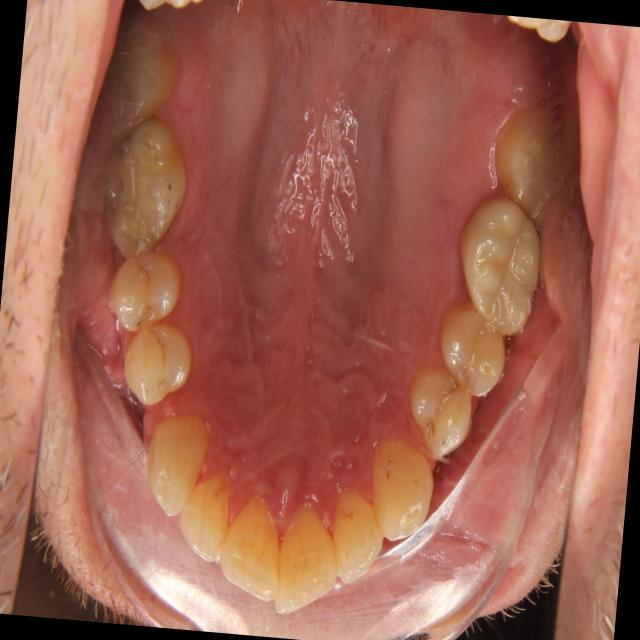tooth: (78, 0, 195, 159), (444, 178, 550, 347), (93, 111, 195, 272), (484, 91, 578, 237), (217, 467, 288, 620), (266, 492, 347, 626), (426, 288, 514, 405), (397, 349, 482, 470), (358, 425, 441, 548), (134, 407, 218, 524), (94, 237, 191, 336), (166, 452, 238, 575), (115, 316, 200, 414), (325, 479, 390, 597)
